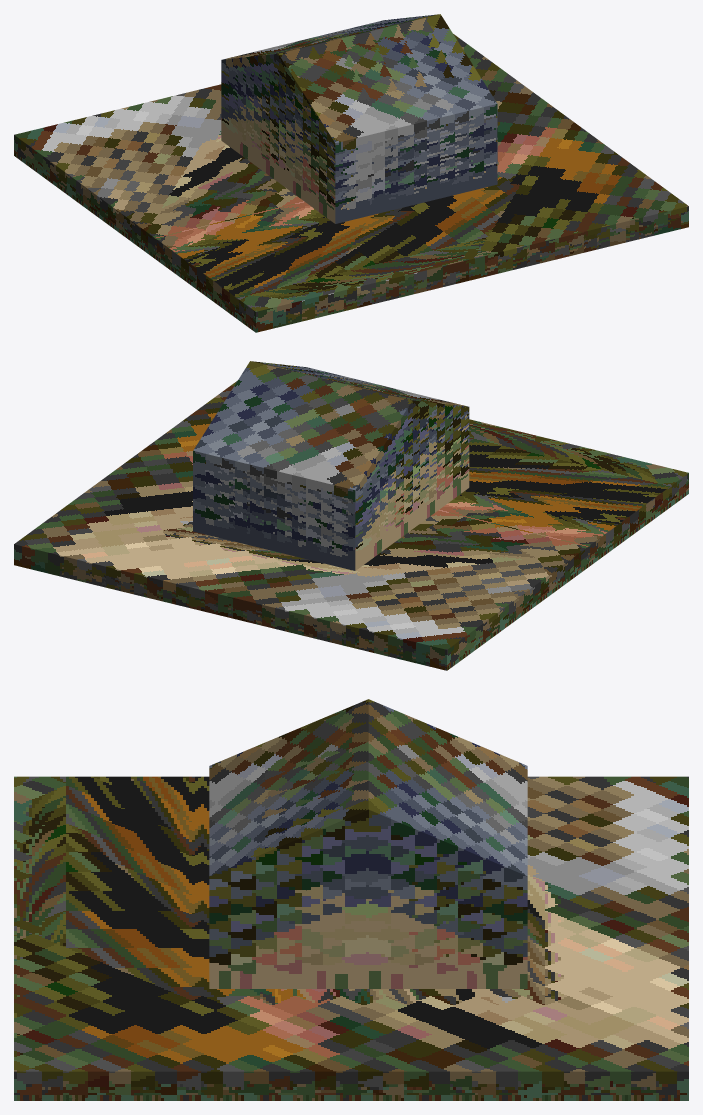
The model's file is dum_51_domy_1.glb.
The picture shows the model from 3 angles, top to bottom: view 1: azimuth 30°, elevation 25°; view 2: azimuth 150°, elevation 25°; view 3: azimuth 270°, elevation 25°; orthographic projection. The views are drawn at different scales.
Bounding box in the file's own units: 14.2 × 4.69 × 13.74.
Materials: 1 (1 with a texture image).
